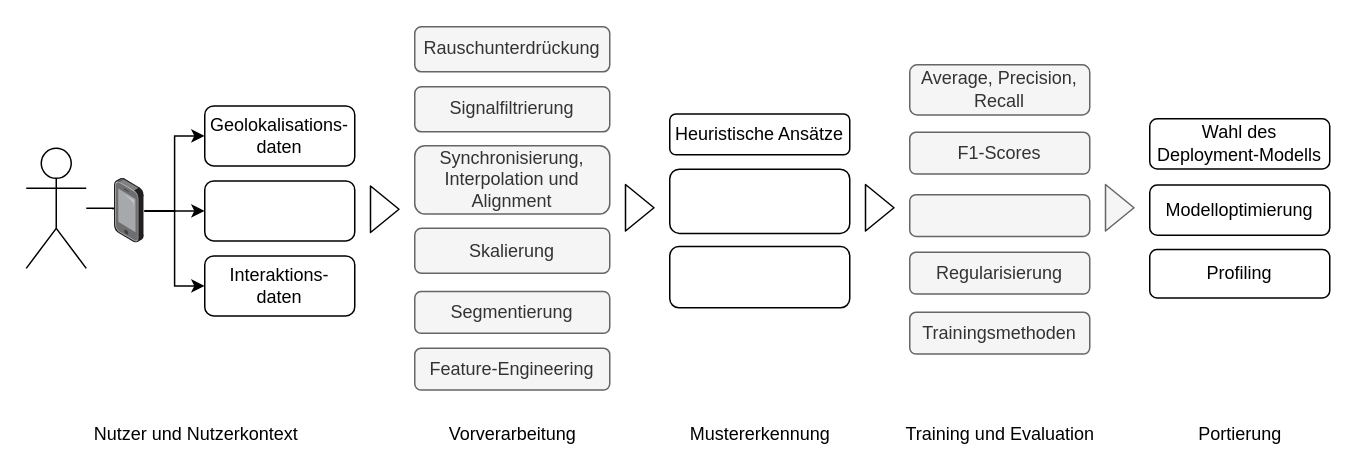
The diagram is 1367 pixels wide and 476 high, and some of its shapes have lost their labels. Here are the shapes that lost their labels. From the top down, the box of each, then its label:
(203, 179, 355, 241): Bewegungs- daten
(668, 168, 850, 233): Klassische Machine-Learning-Ansätze
(908, 193, 1090, 236): Konfusionsmatrix
(668, 245, 850, 308): Deep-Learning-Ansätze
